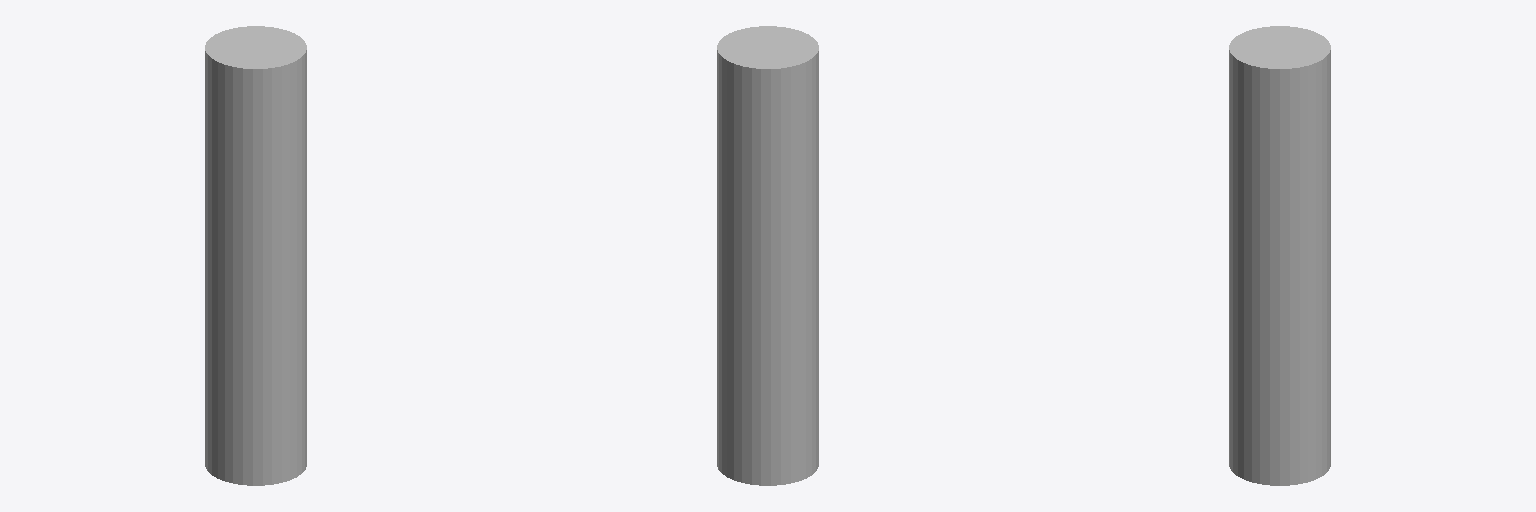
The model's file is brus1.obj.
The picture shows the model from 3 angles: view 1: azimuth 30°, elevation 25°; view 2: azimuth 150°, elevation 25°; view 3: azimuth 270°, elevation 25°; orthographic projection.
Parts seen in each view (by area): view 1: brus1_brus1_Material; view 2: brus1_brus1_Material; view 3: brus1_brus1_Material.
Part boxes in pixels (bbox=[...]): brus1_brus1_Material: bbox=[205, 26, 306, 485]; brus1_brus1_Material: bbox=[717, 26, 818, 485]; brus1_brus1_Material: bbox=[1229, 26, 1330, 485].
Bounding box in the file's own units: 0.2 × 0.9 × 0.2.